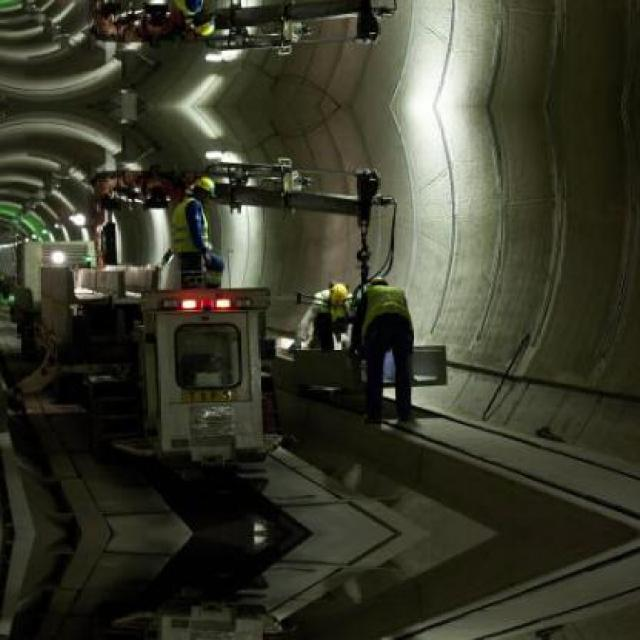helmet: (192, 173, 218, 208), (192, 4, 218, 39), (322, 281, 352, 307)
